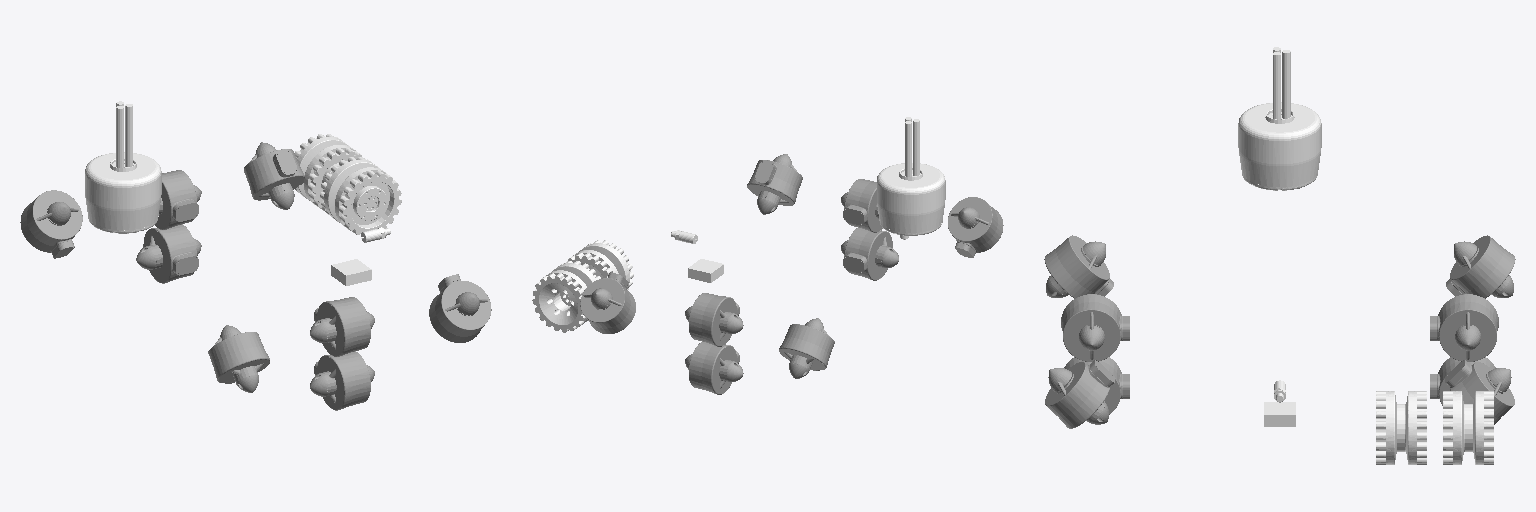
The robot description file, URDF, robot "ky_3":
<?xml version="1.0" encoding="utf-8"?>
<!-- This URDF was automatically created by SolidWorks to URDF Exporter! Originally created by Stephen Brawner (brawner@gmail.com) 
     Commit Version: 1.6.0-4-g7f85cfe  Build Version: 1.6.7995.38578
     For more information, please see http://wiki.ros.org/sw_urdf_exporter -->
<robot
  name="ky_3">
  <link
    name="base_link">
    <inertial>
      <origin
        xyz="-0.349153051066758 0.203889319447078 0.000523775961478508"
        rpy="0 0 0" />
      <mass
        value="44.4331513150916" />
      <inertia
        ixx="0.309138672530337"
        ixy="0.00525203944160959"
        ixz="-0.000711860240484969"
        iyy="0.941733353942616"
        iyz="-9.17060248214772E-05"
        izz="0.821807566846044" />
    </inertial>
    <visual>
      <origin
        xyz="0 0 0"
        rpy="0 0 0" />
      <geometry>
        <mesh
          filename="package://ky_3/meshes/base_link.STL" />
      </geometry>
      <material
        name="">
        <color
          rgba="1 1 1 1" />
      </material>
    </visual>
    <collision>
      <origin
        xyz="0 0 0"
        rpy="0 0 0" />
      <geometry>
        <mesh
          filename="package://ky_3/meshes/base_link.STL" />
      </geometry>
    </collision>
  </link>
  <link
    name="propeller1_Link">
    <inertial>
      <origin
        xyz="7.09242094221185E-08 -0.00199868380104069 0.0256021562412026"
        rpy="0 0 0" />
      <mass
        value="0.414409363255111" />
      <inertia
        ixx="0.0003281944216786"
        ixy="3.26068805475567E-10"
        ixz="8.29625612277526E-10"
        iyy="0.00032610075624694"
        iyz="5.80579089096782E-07"
        izz="0.000410643139202458" />
    </inertial>
    <visual>
      <origin
        xyz="0 0 0"
        rpy="0 0 0" />
      <geometry>
        <mesh
          filename="package://ky_3/meshes/propeller1_Link.STL" />
      </geometry>
      <material
        name="">
        <color
          rgba="0.698039215686274 0.698039215686274 0.698039215686274 1" />
      </material>
    </visual>
    <collision>
      <origin
        xyz="0 0 0"
        rpy="0 0 0" />
      <geometry>
        <mesh
          filename="package://ky_3/meshes/propeller1_Link.STL" />
      </geometry>
    </collision>
  </link>
  <joint
    name="propeller1_Link"
    type="continuous">
    <origin
      xyz="-0.1315 0.29843 0.15956"
      rpy="-0.7854 0 0" />
    <parent
      link="base_link" />
    <child
      link="propeller1_Link" />
    <axis
      xyz="0 0 1" />
  </joint>
  <link
    name="propeller2_Link">
    <inertial>
      <origin
        xyz="-5.59307258007902E-08 0.00199868691646961 0.0256021626229174"
        rpy="0 0 0" />
      <mass
        value="0.414409181908558" />
      <inertia
        ixx="0.000328195290466345"
        ixy="3.61385579101102E-10"
        ixz="-7.27506355535285E-10"
        iyy="0.000326101406380341"
        iyz="-5.80563203926216E-07"
        izz="0.000410642909290001" />
    </inertial>
    <visual>
      <origin
        xyz="0 0 0"
        rpy="0 0 0" />
      <geometry>
        <mesh
          filename="package://ky_3/meshes/propeller2_Link.STL" />
      </geometry>
      <material
        name="">
        <color
          rgba="0.698039215686274 0.698039215686274 0.698039215686274 1" />
      </material>
    </visual>
    <collision>
      <origin
        xyz="0 0 0"
        rpy="0 0 0" />
      <geometry>
        <mesh
          filename="package://ky_3/meshes/propeller2_Link.STL" />
      </geometry>
    </collision>
  </link>
  <joint
    name="propeller2_Link"
    type="fixed">
    <origin
      xyz="-0.1315 -0.29843 0.15956"
      rpy="0.7854 0 0" />
    <parent
      link="base_link" />
    <child
      link="propeller2_Link" />
    <axis
      xyz="0 0 0" />
  </joint>
  <link
    name="propeller3_Link">
    <inertial>
      <origin
        xyz="7.09023045830648E-08 -0.00199868373451906 0.0256021561055486"
        rpy="0 0 0" />
      <mass
        value="0.414409365807567" />
      <inertia
        ixx="0.000328195009727699"
        ixy="3.25949519903211E-10"
        ixz="8.29457397819805E-10"
        iyy="0.000326101344749567"
        iyz="5.80579591074907E-07"
        izz="0.000410643140172733" />
    </inertial>
    <visual>
      <origin
        xyz="0 0 0"
        rpy="0 0 0" />
      <geometry>
        <mesh
          filename="package://ky_3/meshes/propeller3_Link.STL" />
      </geometry>
      <material
        name="">
        <color
          rgba="0.698039215686274 0.698039215686274 0.698039215686274 1" />
      </material>
    </visual>
    <collision>
      <origin
        xyz="0 0 0"
        rpy="0 0 0" />
      <geometry>
        <mesh
          filename="package://ky_3/meshes/propeller3_Link.STL" />
      </geometry>
    </collision>
  </link>
  <joint
    name="propeller3_Link"
    type="continuous">
    <origin
      xyz="-0.5665 0.33494 0.17454"
      rpy="0.7854 0 0" />
    <parent
      link="base_link" />
    <child
      link="propeller3_Link" />
    <axis
      xyz="0 0 1" />
  </joint>
  <link
    name="propeller4_Link">
    <inertial>
      <origin
        xyz="-7.28524880422299E-08 0.00199868355394961 0.0256021570457827"
        rpy="0 0 0" />
      <mass
        value="0.414409341819862" />
      <inertia
        ixx="0.000328194124042591"
        ixy="3.30539341629614E-10"
        ixz="-8.44396023390456E-10"
        iyy="0.000326100429833741"
        iyz="-5.80581792791567E-07"
        izz="0.000410643109466097" />
    </inertial>
    <visual>
      <origin
        xyz="0 0 0"
        rpy="0 0 0" />
      <geometry>
        <mesh
          filename="package://ky_3/meshes/propeller4_Link.STL" />
      </geometry>
      <material
        name="">
        <color
          rgba="0.698039215686274 0.698039215686274 0.698039215686274 1" />
      </material>
    </visual>
    <collision>
      <origin
        xyz="0 0 0"
        rpy="0 0 0" />
      <geometry>
        <mesh
          filename="package://ky_3/meshes/propeller4_Link.STL" />
      </geometry>
    </collision>
  </link>
  <joint
    name="propeller4_Link"
    type="continuous">
    <origin
      xyz="-0.5665 -0.33494 0.17454"
      rpy="-0.7854 0 0" />
    <parent
      link="base_link" />
    <child
      link="propeller4_Link" />
    <axis
      xyz="0 0 1" />
  </joint>
  <link
    name="propeller5_Link">
    <inertial>
      <origin
        xyz="0.0256013697546785 -7.08879361321912E-08 0.00199874004821321"
        rpy="0 0 0" />
      <mass
        value="0.414401384542534" />
      <inertia
        ixx="0.000410634033077079"
        ixy="-8.41824564339678E-10"
        ixz="-5.79460173421178E-07"
        iyy="0.000328169837008807"
        iyz="1.17547614490522E-10"
        izz="0.000326092232215981" />
    </inertial>
    <visual>
      <origin
        xyz="0 0 0"
        rpy="0 0 0" />
      <geometry>
        <mesh
          filename="package://ky_3/meshes/propeller5_Link.STL" />
      </geometry>
      <material
        name="">
        <color
          rgba="0.698039215686274 0.698039215686274 0.698039215686274 1" />
      </material>
    </visual>
    <collision>
      <origin
        xyz="0 0 0"
        rpy="0 0 0" />
      <geometry>
        <mesh
          filename="package://ky_3/meshes/propeller5_Link.STL" />
      </geometry>
    </collision>
  </link>
  <joint
    name="propeller5_Link"
    type="continuous">
    <origin
      xyz="-0.37371 0.2942 0.19126"
      rpy="1.5708 0 0" />
    <parent
      link="base_link" />
    <child
      link="propeller5_Link" />
    <axis
      xyz="1 0 0" />
  </joint>
  <link
    name="propeller6_Link">
    <inertial>
      <origin
        xyz="0.025601369722401 7.07663273813441E-08 -0.00199874003853573"
        rpy="0 0 0" />
      <mass
        value="0.414401385208956" />
      <inertia
        ixx="0.000410634033771718"
        ixy="8.41011541183698E-10"
        ixz="5.79460204650533E-07"
        iyy="0.000328169849793526"
        iyz="1.18157627413255E-10"
        izz="0.000326092245878525" />
    </inertial>
    <visual>
      <origin
        xyz="0 0 0"
        rpy="0 0 0" />
      <geometry>
        <mesh
          filename="package://ky_3/meshes/propeller6_Link.STL" />
      </geometry>
      <material
        name="">
        <color
          rgba="0.698039215686274 0.698039215686274 0.698039215686274 1" />
      </material>
    </visual>
    <collision>
      <origin
        xyz="0 0 0"
        rpy="0 0 0" />
      <geometry>
        <mesh
          filename="package://ky_3/meshes/propeller6_Link.STL" />
      </geometry>
    </collision>
  </link>
  <joint
    name="propeller6_Link"
    type="continuous">
    <origin
      xyz="-0.37371 -0.2942 0.19126"
      rpy="1.5708 0 0" />
    <parent
      link="base_link" />
    <child
      link="propeller6_Link" />
    <axis
      xyz="1 0 0" />
  </joint>
  <link
    name="propeller7_Link">
    <inertial>
      <origin
        xyz="0.0256013698246613 -7.08212191946611E-08 0.00199874010089213"
        rpy="0 0 0" />
      <mass
        value="0.414401382953397" />
      <inertia
        ixx="0.000410634032627552"
        ixy="-8.41290807628331E-10"
        ixz="-5.79459737933365E-07"
        iyy="0.000328169818776531"
        iyz="1.18040651879504E-10"
        izz="0.000326092214201353" />
    </inertial>
    <visual>
      <origin
        xyz="0 0 0"
        rpy="0 0 0" />
      <geometry>
        <mesh
          filename="package://ky_3/meshes/propeller7_Link.STL" />
      </geometry>
      <material
        name="">
        <color
          rgba="0.698039215686274 0.698039215686274 0.698039215686274 1" />
      </material>
    </visual>
    <collision>
      <origin
        xyz="0 0 0"
        rpy="0 0 0" />
      <geometry>
        <mesh
          filename="package://ky_3/meshes/propeller7_Link.STL" />
      </geometry>
    </collision>
  </link>
  <joint
    name="propeller7_Link"
    type="continuous">
    <origin
      xyz="-0.37371 0.2942 0.09126"
      rpy="1.5708 0 0" />
    <parent
      link="base_link" />
    <child
      link="propeller7_Link" />
    <axis
      xyz="1 0 0" />
  </joint>
  <link
    name="propeller8_Link">
    <inertial>
      <origin
        xyz="0.0256013697803822 7.08926537612564E-08 -0.00199874004666173"
        rpy="0 0 0" />
      <mass
        value="0.414401383895445" />
      <inertia
        ixx="0.00041063403301386"
        ixy="8.41959162780188E-10"
        ixz="5.79460201016688E-07"
        iyy="0.000328169749120125"
        iyz="1.1769377903609E-10"
        izz="0.000326092144223429" />
    </inertial>
    <visual>
      <origin
        xyz="0 0 0"
        rpy="0 0 0" />
      <geometry>
        <mesh
          filename="package://ky_3/meshes/propeller8_Link.STL" />
      </geometry>
      <material
        name="">
        <color
          rgba="0.698039215686274 0.698039215686274 0.698039215686274 1" />
      </material>
    </visual>
    <collision>
      <origin
        xyz="0 0 0"
        rpy="0 0 0" />
      <geometry>
        <mesh
          filename="package://ky_3/meshes/propeller8_Link.STL" />
      </geometry>
    </collision>
  </link>
  <joint
    name="propeller8_Link"
    type="continuous">
    <origin
      xyz="-0.37371 -0.2942 0.09126"
      rpy="1.5708 0 0" />
    <parent
      link="base_link" />
    <child
      link="propeller8_Link" />
    <axis
      xyz="1 0 0" />
  </joint>
  <link
    name="depth_Link">
    <inertial>
      <origin
        xyz="-0.0172663810569851 0 -7.72299573207768E-19"
        rpy="0 0 0" />
      <mass
        value="0.0125849767819091" />
      <inertia
        ixx="5.43278134760562E-07"
        ixy="1.73855064409688E-22"
        ixz="-2.56705375893747E-24"
        iyy="2.44600527249463E-06"
        iyz="3.17563846005771E-23"
        izz="2.44600527249463E-06" />
    </inertial>
    <visual>
      <origin
        xyz="0 0 0"
        rpy="0 0 0" />
      <geometry>
        <mesh
          filename="package://ky_3/meshes/depth_Link.STL" />
      </geometry>
      <material
        name="">
        <color
          rgba="1 1 1 1" />
      </material>
    </visual>
    <collision>
      <origin
        xyz="0 0 0"
        rpy="0 0 0" />
      <geometry>
        <mesh
          filename="package://ky_3/meshes/depth_Link.STL" />
      </geometry>
    </collision>
  </link>
  <joint
    name="depth_Link"
    type="fixed">
    <origin
      xyz="-0.1 0 0.19"
      rpy="1.5708 0 0" />
    <parent
      link="base_link" />
    <child
      link="depth_Link" />
    <axis
      xyz="0 0 0" />
  </joint>
  <link
    name="GPS_Link">
    <inertial>
      <origin
        xyz="-0.000168183936074651 1.16553658051338E-05 0.0549692021321196"
        rpy="0 0 0" />
      <mass
        value="0.385473836528922" />
      <inertia
        ixx="0.00069996351025094"
        ixy="-6.00188043940581E-08"
        ixz="-1.52698790227809E-08"
        iyy="0.000701636698867305"
        iyz="4.22832495872188E-07"
        izz="0.000771351524393107" />
    </inertial>
    <visual>
      <origin
        xyz="0 0 0"
        rpy="0 0 0" />
      <geometry>
        <mesh
          filename="package://ky_3/meshes/GPS_Link.STL" />
      </geometry>
      <material
        name="">
        <color
          rgba="1 1 1 1" />
      </material>
    </visual>
    <collision>
      <origin
        xyz="0 0 0"
        rpy="0 0 0" />
      <geometry>
        <mesh
          filename="package://ky_3/meshes/GPS_Link.STL" />
      </geometry>
    </collision>
  </link>
  <joint
    name="GPS_Link"
    type="fixed">
    <origin
      xyz="-0.61 0 0.333"
      rpy="0 0 0" />
    <parent
      link="base_link" />
    <child
      link="GPS_Link" />
    <axis
      xyz="0 0 0" />
  </joint>
  <link
    name="gyro_Link">
    <inertial>
      <origin
        xyz="2.77555756156289E-17 0.01 -1.35525271560688E-18"
        rpy="0 0 0" />
      <mass
        value="0.05" />
      <inertia
        ixx="1.20833333333333E-05"
        ixy="1.76465197344646E-22"
        ixz="-8.97290235458056E-22"
        iyy="2.08333333333333E-05"
        iyz="-1.98087550916956E-37"
        izz="1.20833333333333E-05" />
    </inertial>
    <visual>
      <origin
        xyz="0 0 0"
        rpy="0 0 0" />
      <geometry>
        <mesh
          filename="package://ky_3/meshes/gyro_Link.STL" />
      </geometry>
      <material
        name="">
        <color
          rgba="1 1 1 1" />
      </material>
    </visual>
    <collision>
      <origin
        xyz="0 0 0"
        rpy="0 0 0" />
      <geometry>
        <mesh
          filename="package://ky_3/meshes/gyro_Link.STL" />
      </geometry>
    </collision>
  </link>
  <joint
    name="gyro_Link"
    type="fixed">
    <origin
      xyz="-0.163 0 0.12"
      rpy="1.5708 0 0" />
    <parent
      link="base_link" />
    <child
      link="gyro_Link" />
    <axis
      xyz="0 0 0" />
  </joint>
  <link
    name="motor1_Link">
    <inertial>
      <origin
        xyz="-0.000132447696375798 1.29986141259031E-05 0.0434724644174125"
        rpy="0 0 0" />
      <mass
        value="0.37807240883232" />
      <inertia
        ixx="0.000191030453854987"
        ixy="-3.01165523015084E-07"
        ixz="3.41458610731048E-07"
        iyy="0.000191304906115872"
        iyz="-2.16312567354947E-07"
        izz="0.000302564909319552" />
    </inertial>
    <visual>
      <origin
        xyz="0 0 0"
        rpy="0 0 0" />
      <geometry>
        <mesh
          filename="package://ky_3/meshes/motor1_Link.STL" />
      </geometry>
      <material
        name="">
        <color
          rgba="1 1 1 1" />
      </material>
    </visual>
    <collision>
      <origin
        xyz="0 0 0"
        rpy="0 0 0" />
      <geometry>
        <mesh
          filename="package://ky_3/meshes/motor1_Link.STL" />
      </geometry>
    </collision>
  </link>
  <joint
    name="motor1_Link"
    type="continuous">
    <origin
      xyz="-0.035 0.127 0.166"
      rpy="1.5708 0 0" />
    <parent
      link="base_link" />
    <child
      link="motor1_Link" />
    <axis
      xyz="0 0 1" />
  </joint>
  <link
    name="motor2_Link">
    <inertial>
      <origin
        xyz="0.000132447696375909 1.29986141257643E-05 -0.0434724644174126"
        rpy="0 0 0" />
      <mass
        value="0.378072408832318" />
      <inertia
        ixx="0.000191030453854987"
        ixy="3.01165523015202E-07"
        ixz="3.41458610731192E-07"
        iyy="0.000191304906115872"
        iyz="2.16312567354762E-07"
        izz="0.00030256490931955" />
    </inertial>
    <visual>
      <origin
        xyz="0 0 0"
        rpy="0 0 0" />
      <geometry>
        <mesh
          filename="package://ky_3/meshes/motor2_Link.STL" />
      </geometry>
      <material
        name="">
        <color
          rgba="1 1 1 1" />
      </material>
    </visual>
    <collision>
      <origin
        xyz="0 0 0"
        rpy="0 0 0" />
      <geometry>
        <mesh
          filename="package://ky_3/meshes/motor2_Link.STL" />
      </geometry>
    </collision>
  </link>
  <joint
    name="motor2_Link"
    type="continuous">
    <origin
      xyz="-0.035 -0.127 0.166"
      rpy="1.5708 0 0" />
    <parent
      link="base_link" />
    <child
      link="motor2_Link" />
    <axis
      xyz="0 0 -1" />
  </joint>
</robot>

--- Render facts (derived) ---
3 views of the same robot in one strip: view 1: azimuth 30°, elevation 25°; view 2: azimuth 150°, elevation 25°; view 3: azimuth 270°, elevation 25° (orthographic).
Model ky_3 with 14 links and 13 joints (9 continuous, 4 fixed), rooted at base_link, posed every joint at zero.
Visible links, largest first — view 1: GPS_Link, motor2_Link, propeller2_Link, propeller3_Link, propeller6_Link, propeller8_Link, propeller4_Link, propeller7_Link, propeller1_Link, motor1_Link, propeller5_Link, gyro_Link; view 2: GPS_Link, motor1_Link, propeller1_Link, propeller4_Link, propeller5_Link, propeller7_Link, propeller3_Link, propeller2_Link, propeller8_Link, propeller6_Link, motor2_Link, gyro_Link; view 3: GPS_Link, propeller5_Link, propeller6_Link, propeller2_Link, motor1_Link, motor2_Link, propeller3_Link, propeller4_Link, propeller1_Link, propeller8_Link, gyro_Link, propeller7_Link.
Link boxes in pixels (x1=…): GPS_Link: x1=85, y1=101, x2=161, y2=233; motor2_Link: x1=320, y1=157, x2=401, y2=234; propeller2_Link: x1=429, y1=274, x2=491, y2=342; propeller3_Link: x1=20, y1=190, x2=82, y2=258; propeller6_Link: x1=310, y1=297, x2=374, y2=356; propeller8_Link: x1=310, y1=351, x2=374, y2=410; propeller4_Link: x1=208, y1=325, x2=269, y2=392; propeller7_Link: x1=136, y1=224, x2=201, y2=283; propeller1_Link: x1=244, y1=142, x2=304, y2=209; motor1_Link: x1=295, y1=134, x2=365, y2=210; propeller5_Link: x1=155, y1=170, x2=201, y2=229; gyro_Link: x1=331, y1=259, x2=371, y2=285; GPS_Link: x1=877, y1=117, x2=945, y2=239; motor1_Link: x1=532, y1=261, x2=600, y2=332; propeller1_Link: x1=580, y1=272, x2=635, y2=333; propeller4_Link: x1=948, y1=197, x2=1003, y2=257; propeller5_Link: x1=685, y1=293, x2=743, y2=346; propeller7_Link: x1=685, y1=342, x2=743, y2=394; propeller3_Link: x1=779, y1=318, x2=834, y2=378; propeller2_Link: x1=747, y1=154, x2=802, y2=214; propeller8_Link: x1=841, y1=228, x2=898, y2=280; propeller6_Link: x1=841, y1=179, x2=882, y2=232; motor2_Link: x1=564, y1=240, x2=633, y2=289; gyro_Link: x1=688, y1=259, x2=723, y2=282; GPS_Link: x1=1238, y1=47, x2=1321, y2=190; propeller5_Link: x1=1430, y1=294, x2=1498, y2=361; propeller6_Link: x1=1061, y1=294, x2=1129, y2=361; propeller2_Link: x1=1045, y1=360, x2=1114, y2=428; motor1_Link: x1=1443, y1=391, x2=1493, y2=464; motor2_Link: x1=1376, y1=391, x2=1426, y2=464; propeller3_Link: x1=1446, y1=235, x2=1515, y2=298; propeller4_Link: x1=1044, y1=235, x2=1113, y2=298; propeller1_Link: x1=1445, y1=360, x2=1514, y2=424; propeller8_Link: x1=1064, y1=357, x2=1129, y2=414; gyro_Link: x1=1264, y1=402, x2=1295, y2=426; propeller7_Link: x1=1430, y1=357, x2=1495, y2=405.
Bounding box of the posed robot: 0.6977 × 0.7366 × 0.5047 m (x, y, z).
13 mesh visuals loaded from 14 distinct referenced files (13 binary STL); not drawn: 1 (reference not matched to a file when rendering).
